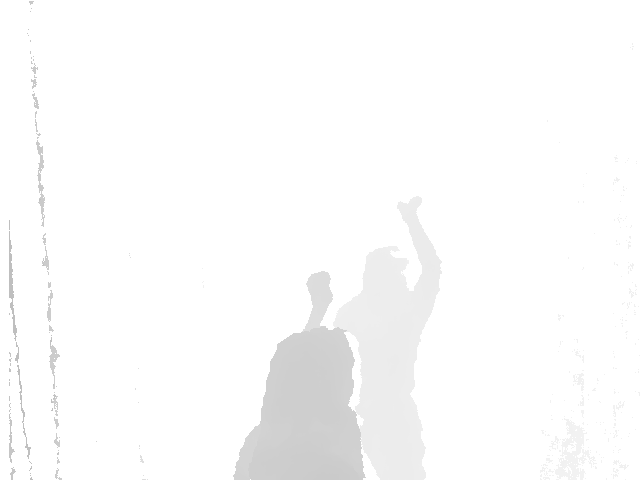hand: (306, 272, 333, 309), (397, 197, 425, 224)
head: (261, 325, 354, 442), (361, 246, 412, 297)
person: (333, 197, 443, 479), (229, 272, 366, 480)
